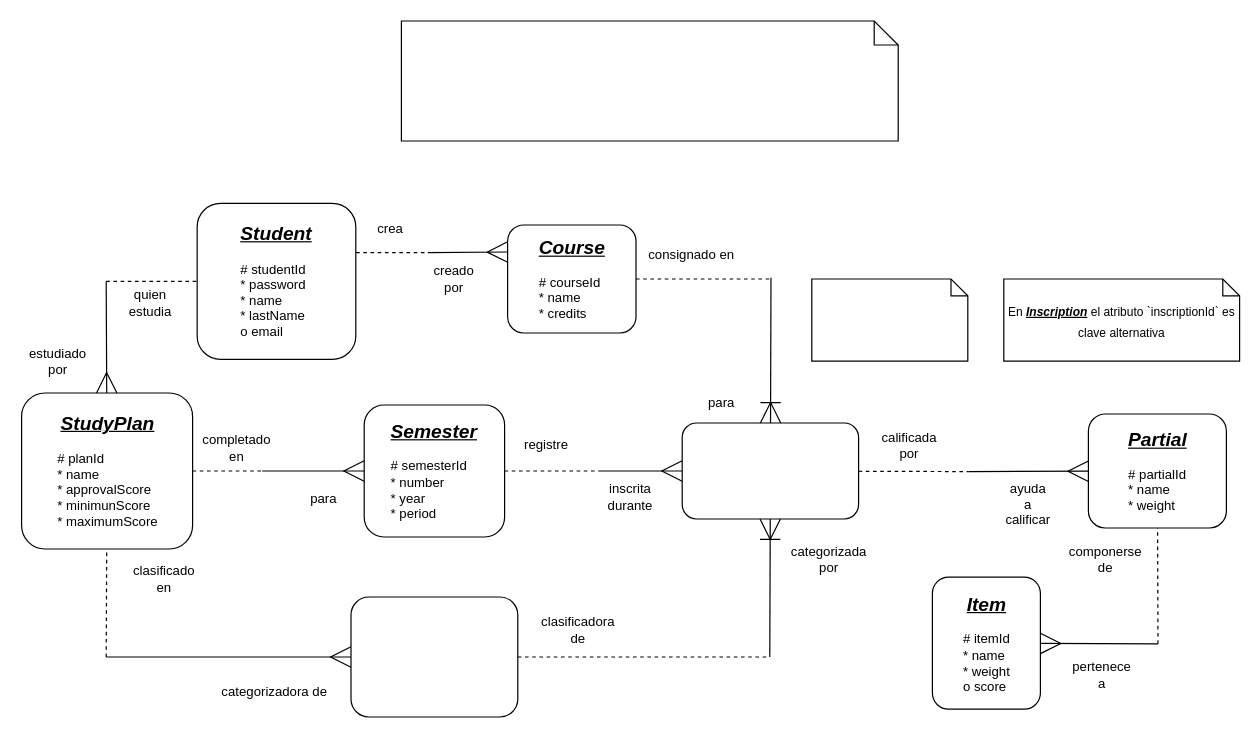
Image size: 1260x738. Some labels were removed from this diagram. The shapes that lost their labels are listed below. From the top down, each one's centre as x and y in pixels, then its label:
pixel 649 80: Agenda Escolar Model
pixel 889 319: En Student el atributo `email` es clave alternativa
pixel 770 470: Inscription * inscriptionId o targetScore
pixel 434 656: Typology # typologyId * name * requiredCredits
